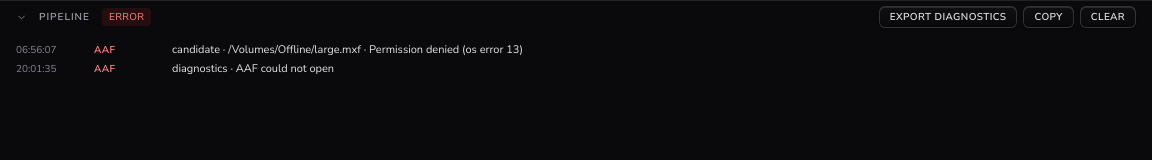
Test: keeps a failed import exportable with no document and only reports success after writing
The width and height of the screenshot is (1152, 160).
Expected: the text "Permission denied" is shown, x1=172 y1=42 x2=523 y2=57
What coordinates should you click on to do the following:
click the button "Export diagnostics"
I would click on:
 (948, 17)
Its box is x1=879 y1=6 x2=1017 y2=28.
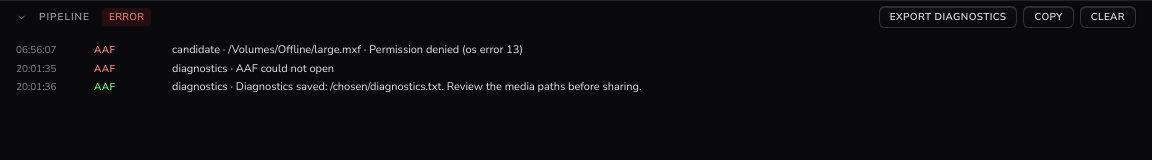
Result: the text "Diagnostics saved:" is shown at x1=172 y1=79 x2=642 y2=94
